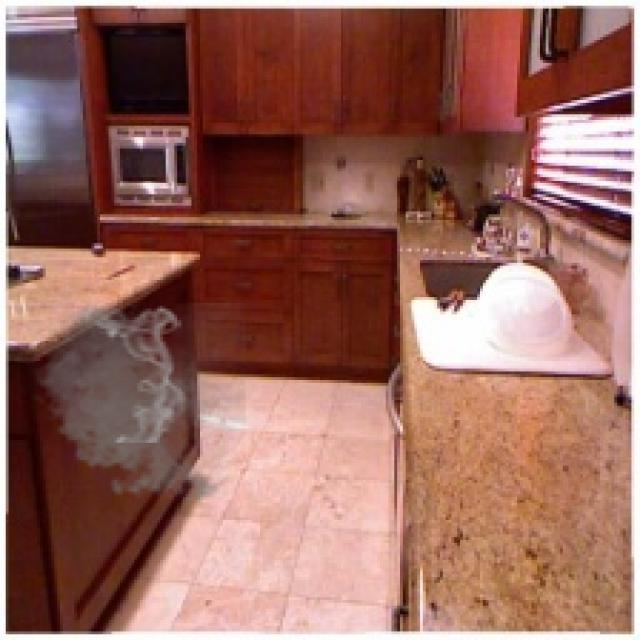Smoke: (26, 300, 246, 509)
